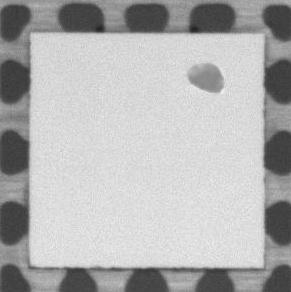DIE_INK: (181, 58, 227, 96)
